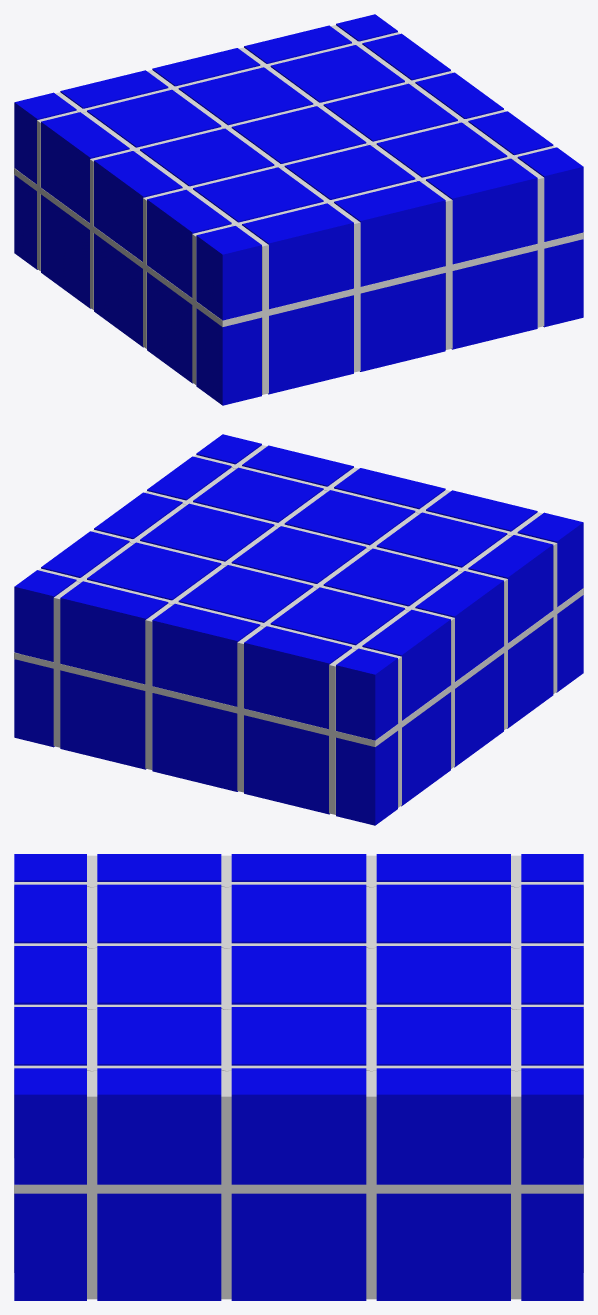
File: Floor0.5x0.5Merged.fbx
The picture shows the model from 3 angles, top to bottom: view 1: azimuth 30°, elevation 25°; view 2: azimuth 150°, elevation 25°; view 3: azimuth 270°, elevation 25°; orthographic projection. The views are drawn at different scales.
Parts seen in each view (by area): view 1: Floor0_5x0_5_Combined; view 2: Floor0_5x0_5_Combined; view 3: Floor0_5x0_5_Combined.
Boxes of the visible parts, box(x1,y1,x2,y2) form: Floor0_5x0_5_Combined: box(14, 14, 583, 405); Floor0_5x0_5_Combined: box(14, 434, 583, 825); Floor0_5x0_5_Combined: box(14, 854, 583, 1300).
Size of the model in its own units: 250 by 100 by 250.
